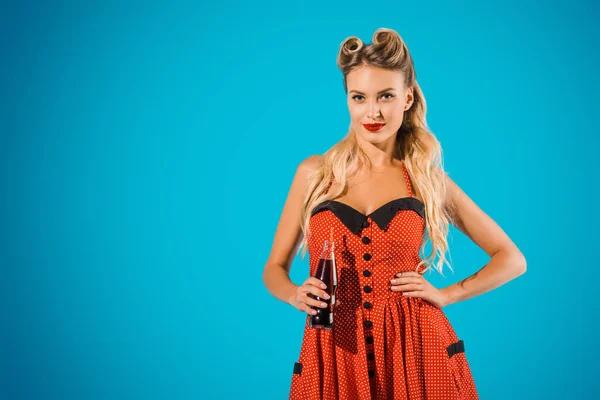glass_bottle: (306, 237, 340, 333)
